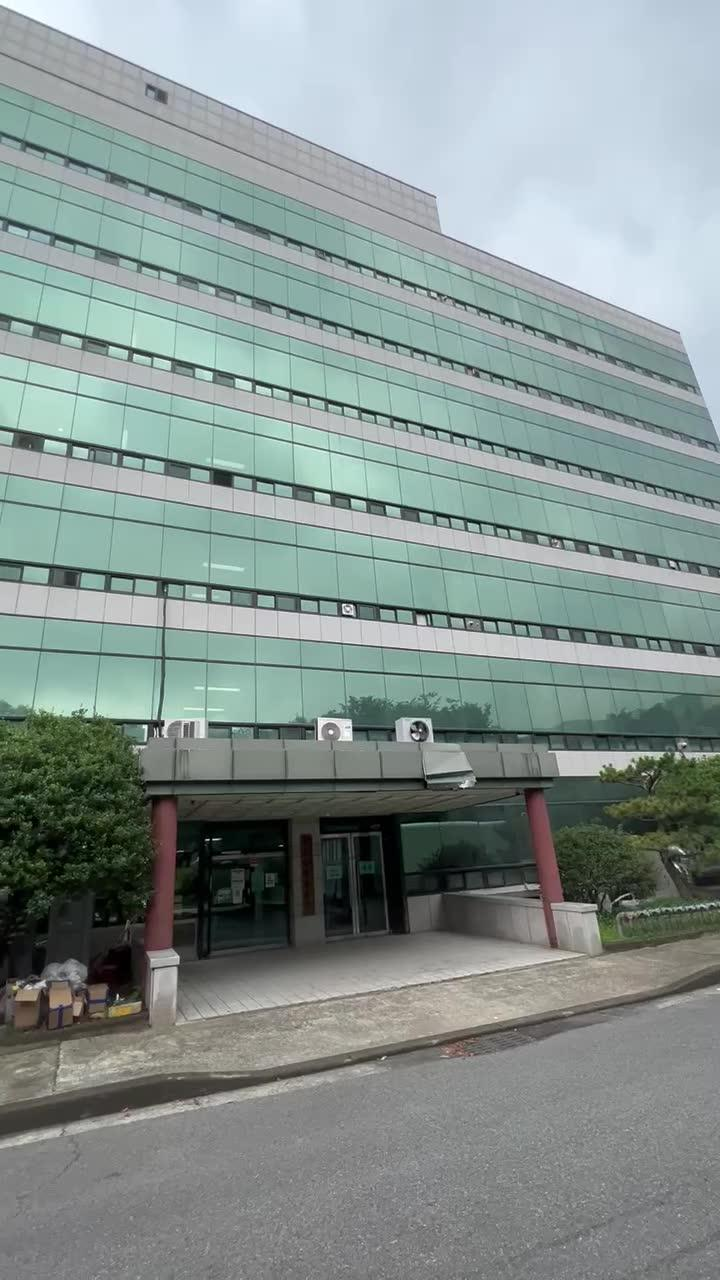building: (16, 58, 536, 744)
